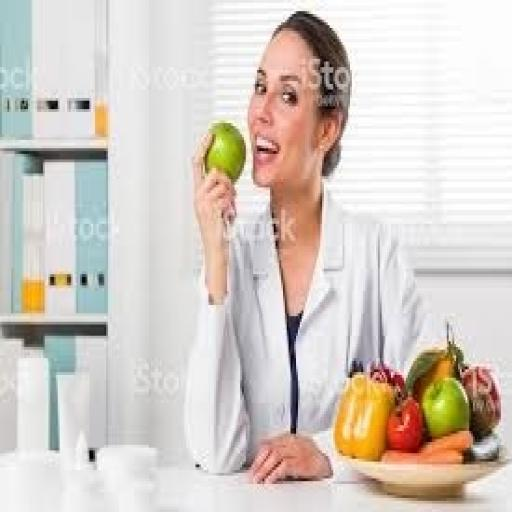eating: (180, 8, 446, 487)
